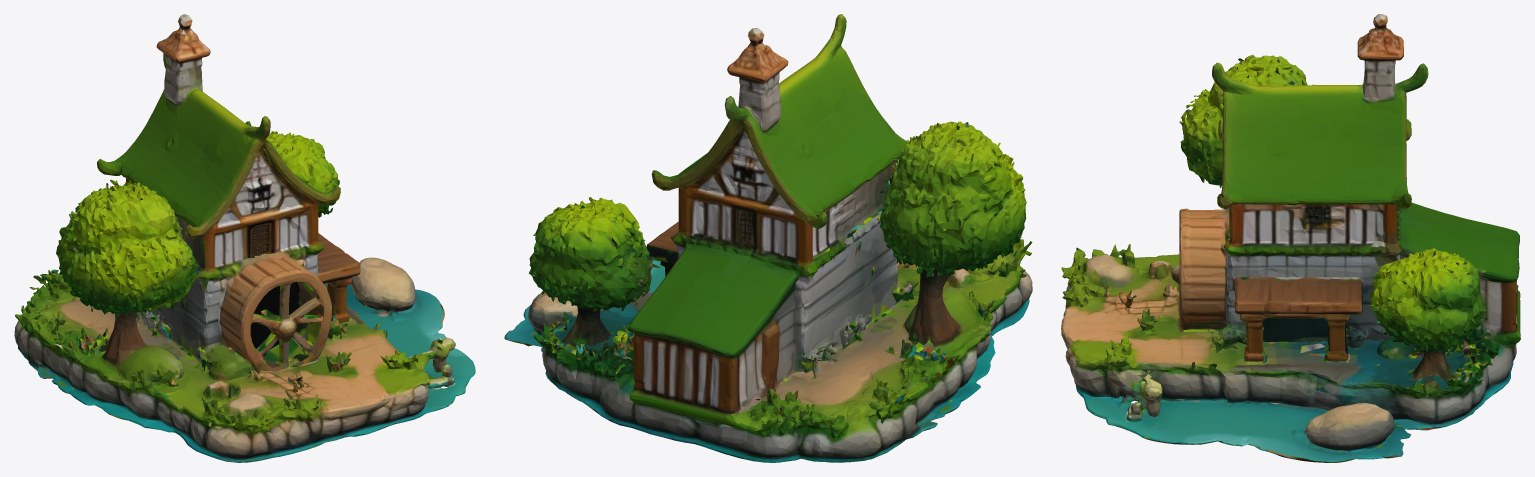
File: windmill_waterwheel_mill.glb
3 renders of one model, left to right at view 1: azimuth 30°, elevation 25°; view 2: azimuth 150°, elevation 25°; view 3: azimuth 270°, elevation 25°, orthographic. The views are drawn at different scales.
Visible parts, largest first — view 1: tmplwf_akq_.ply; view 2: tmplwf_akq_.ply; view 3: tmplwf_akq_.ply.
Boxes of the visible parts, x1,y1,x2,y2 form: tmplwf_akq_.ply: [14, 14, 475, 462]; tmplwf_akq_.ply: [504, 14, 1032, 462]; tmplwf_akq_.ply: [1061, 14, 1520, 462].
Bounding box in the file's own units: 1.98 × 1.55 × 1.9.
Materials: 1 (1 with a texture image).
